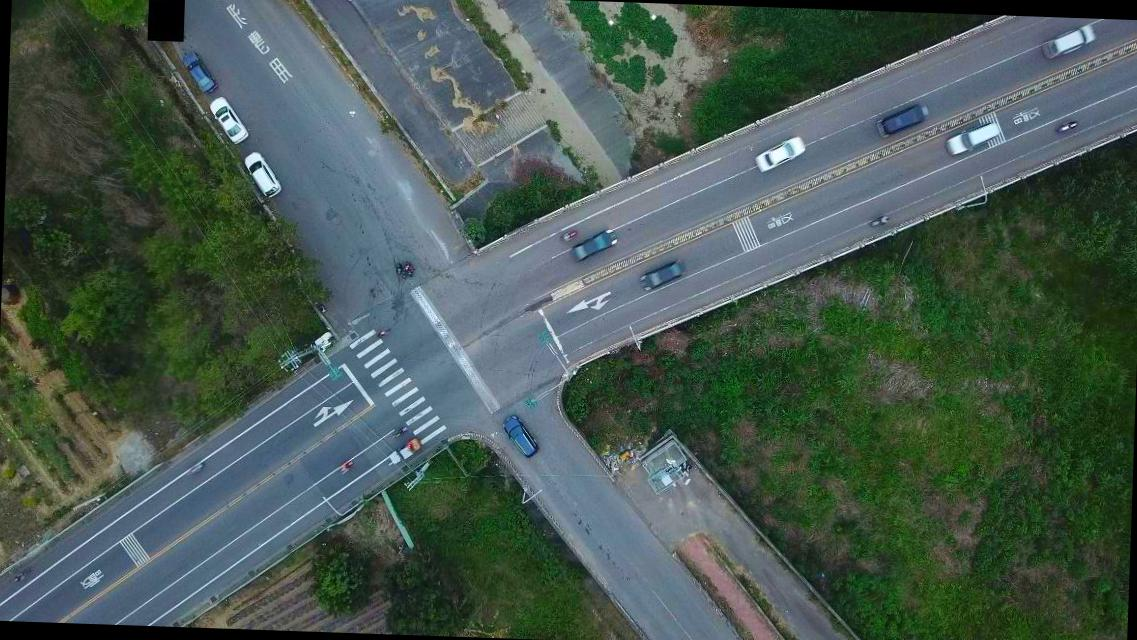vehicle: (943, 120, 1001, 159), (206, 96, 249, 144), (1042, 24, 1096, 62), (876, 102, 930, 140), (239, 150, 282, 197), (754, 136, 804, 173), (176, 50, 216, 94), (637, 259, 685, 295), (570, 227, 616, 263), (502, 416, 540, 458)
